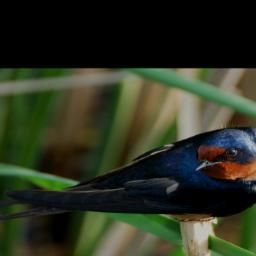Swallow: (0, 124, 256, 225)
